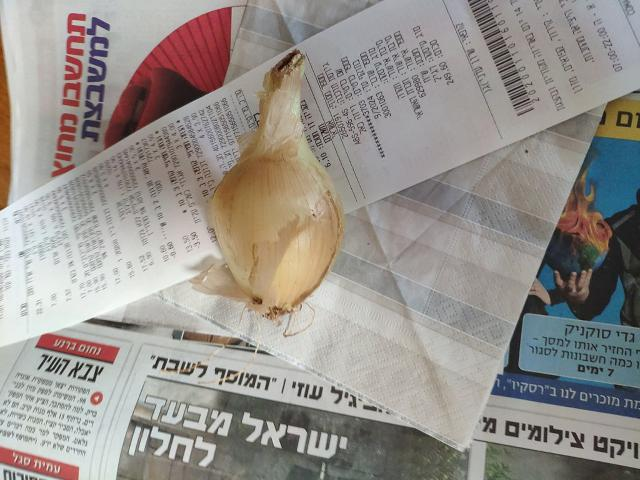onion: (222, 118, 341, 293)
